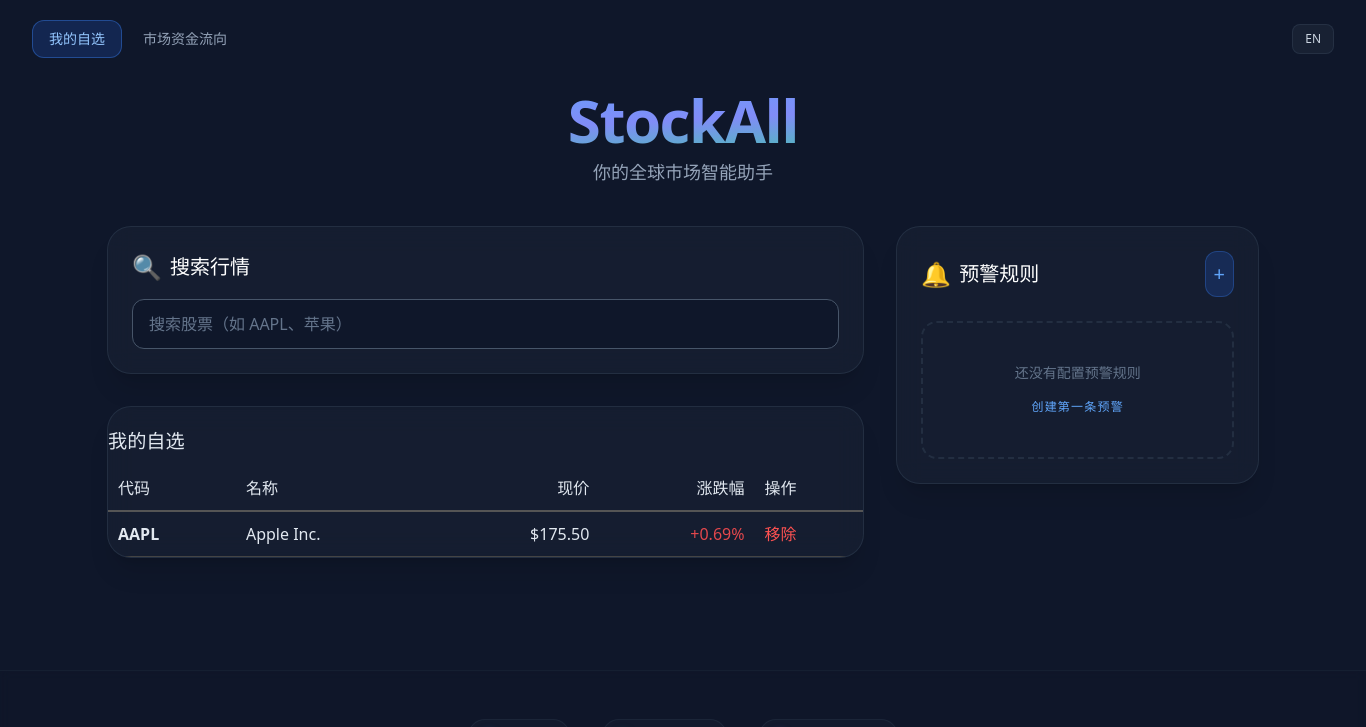
Test: App › navigates to the create-alert form from an empty dashboard
Click the button "创建第一条预警" at (1078, 407), box [1032,399,1124,415]
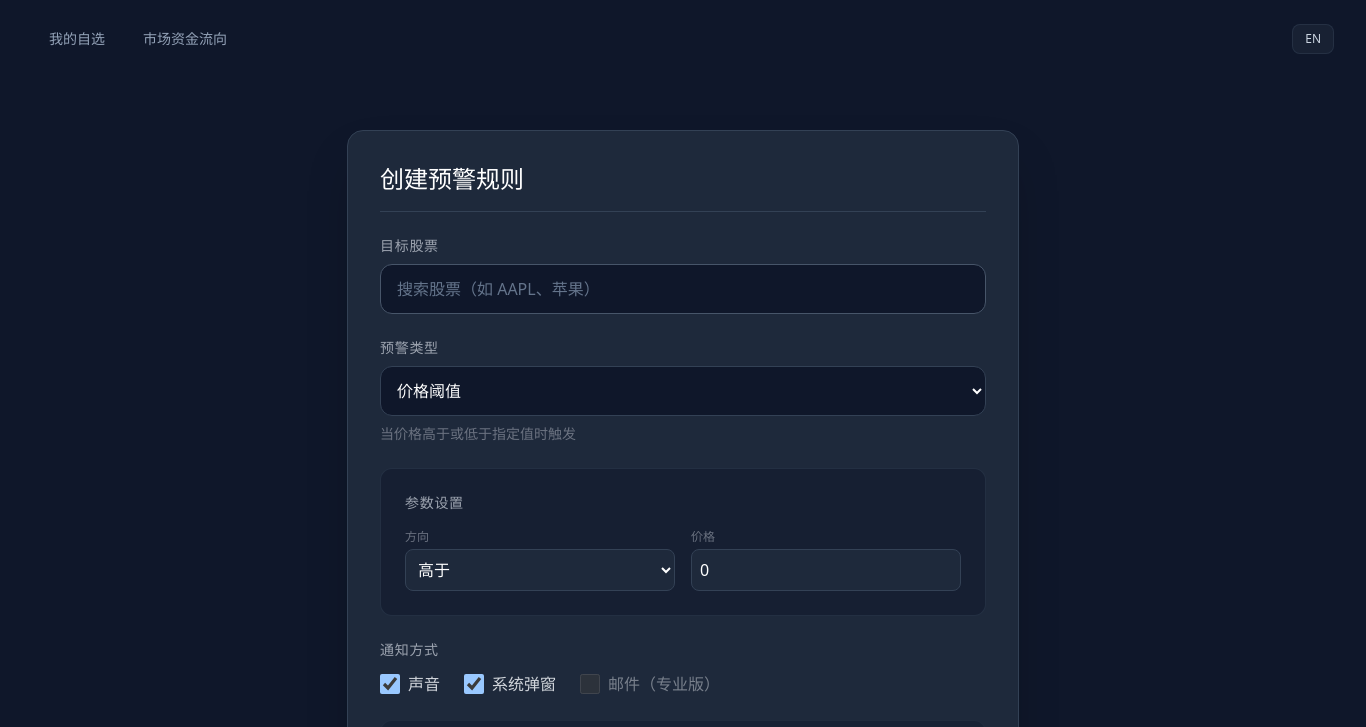
Now the heading "创建预警规则" is shown, box [380,163,986,212]
